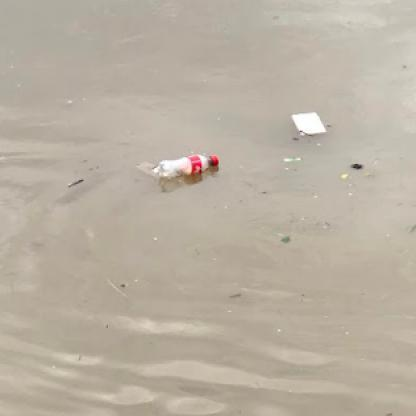foam: (291, 112, 328, 136)
plastic bottle: (156, 154, 219, 176)
